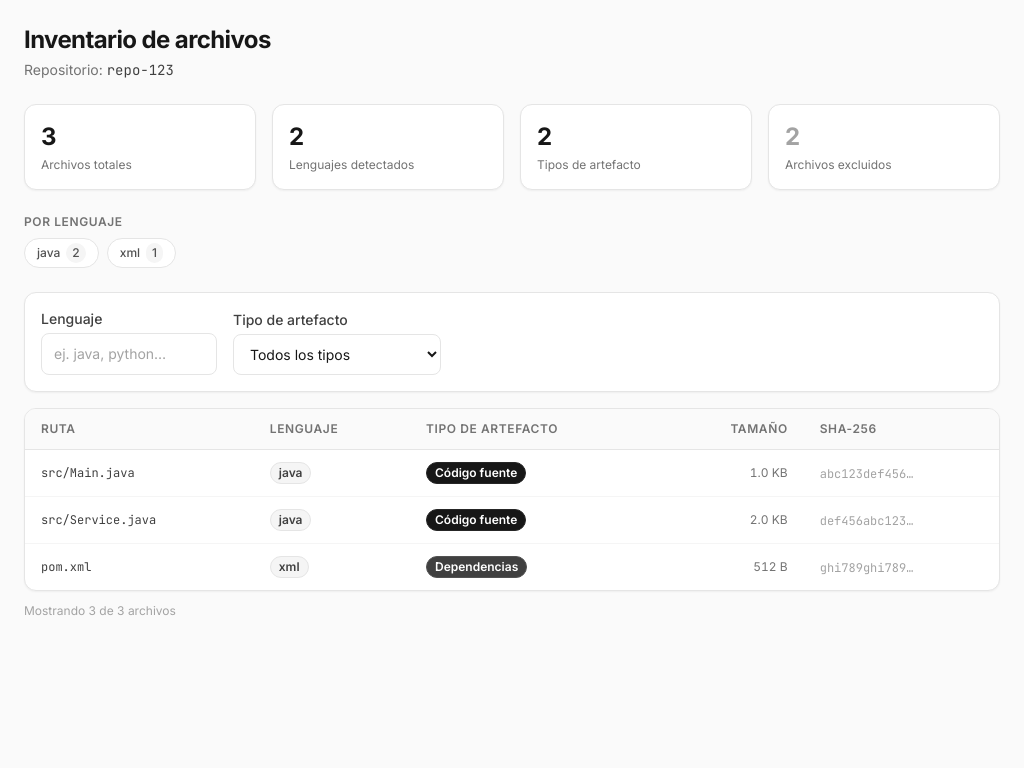
Test: FileInventory › clear filters button appears and resets filters
Type "java" into the field named "filtrar por lenguaje" at (129, 354), box left=41, top=333, right=217, bottom=375
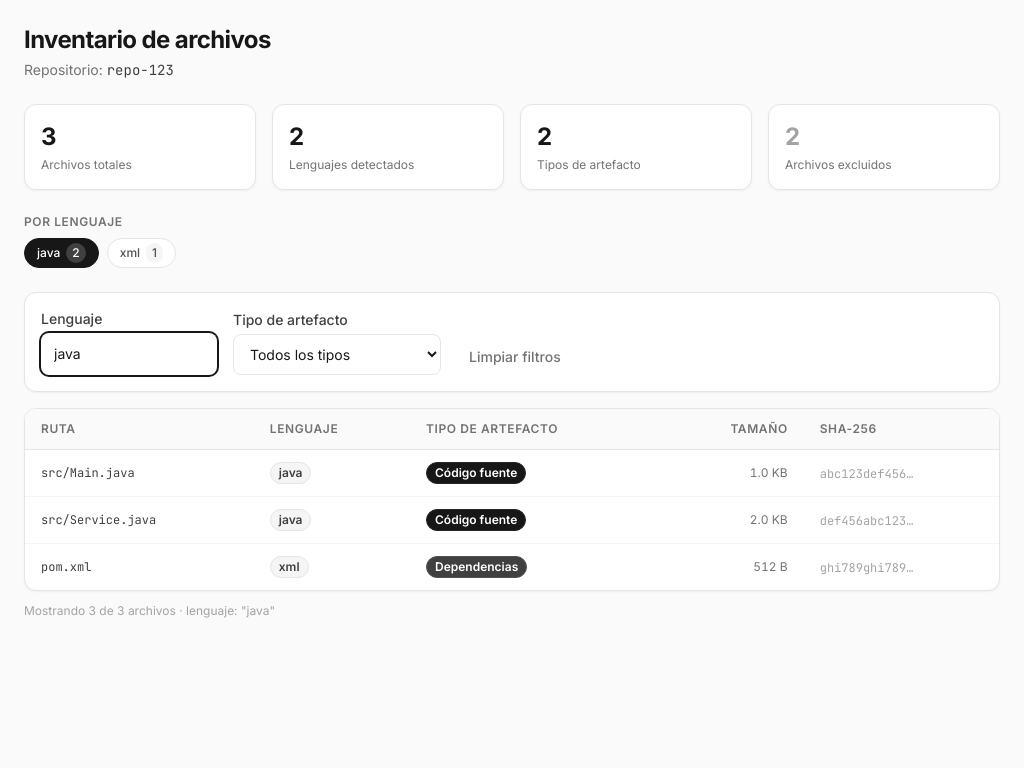
Expected: the button "Limpiar filtros" is shown
Click the button "Limpiar filtros" at (515, 357), box left=457, top=339, right=573, bottom=375
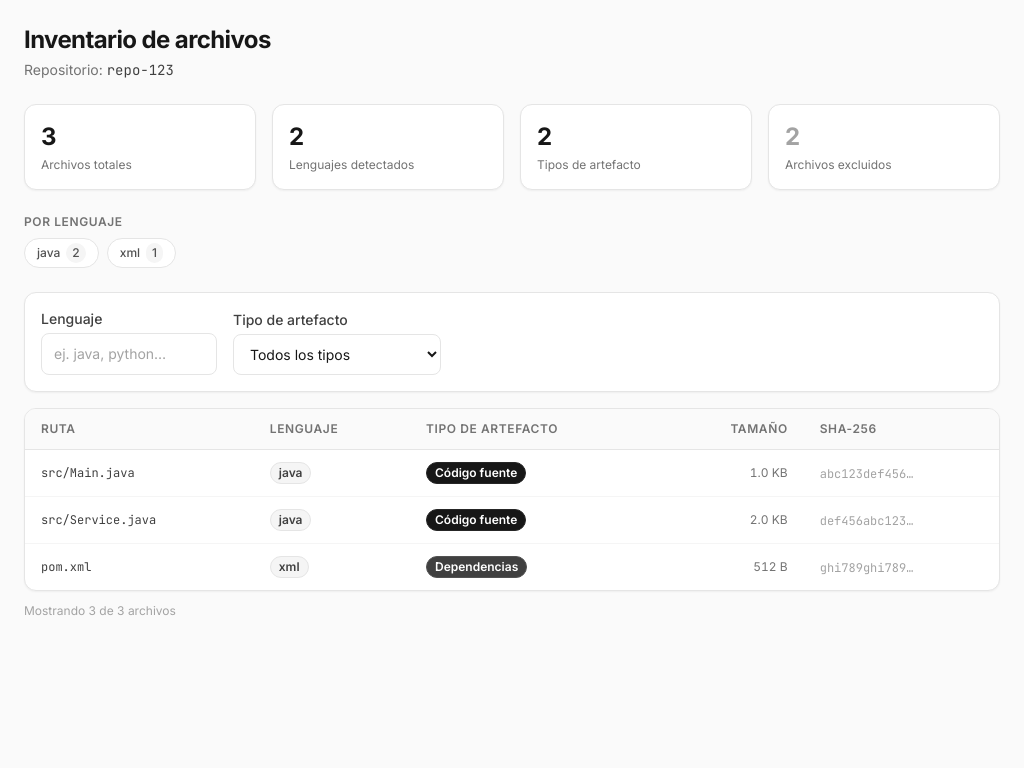
Expected: the button "Limpiar filtros" is gone
